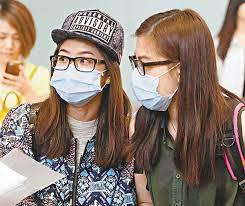NONE: (1, 31, 24, 64)
OK: (131, 55, 184, 113), (54, 48, 104, 98)
